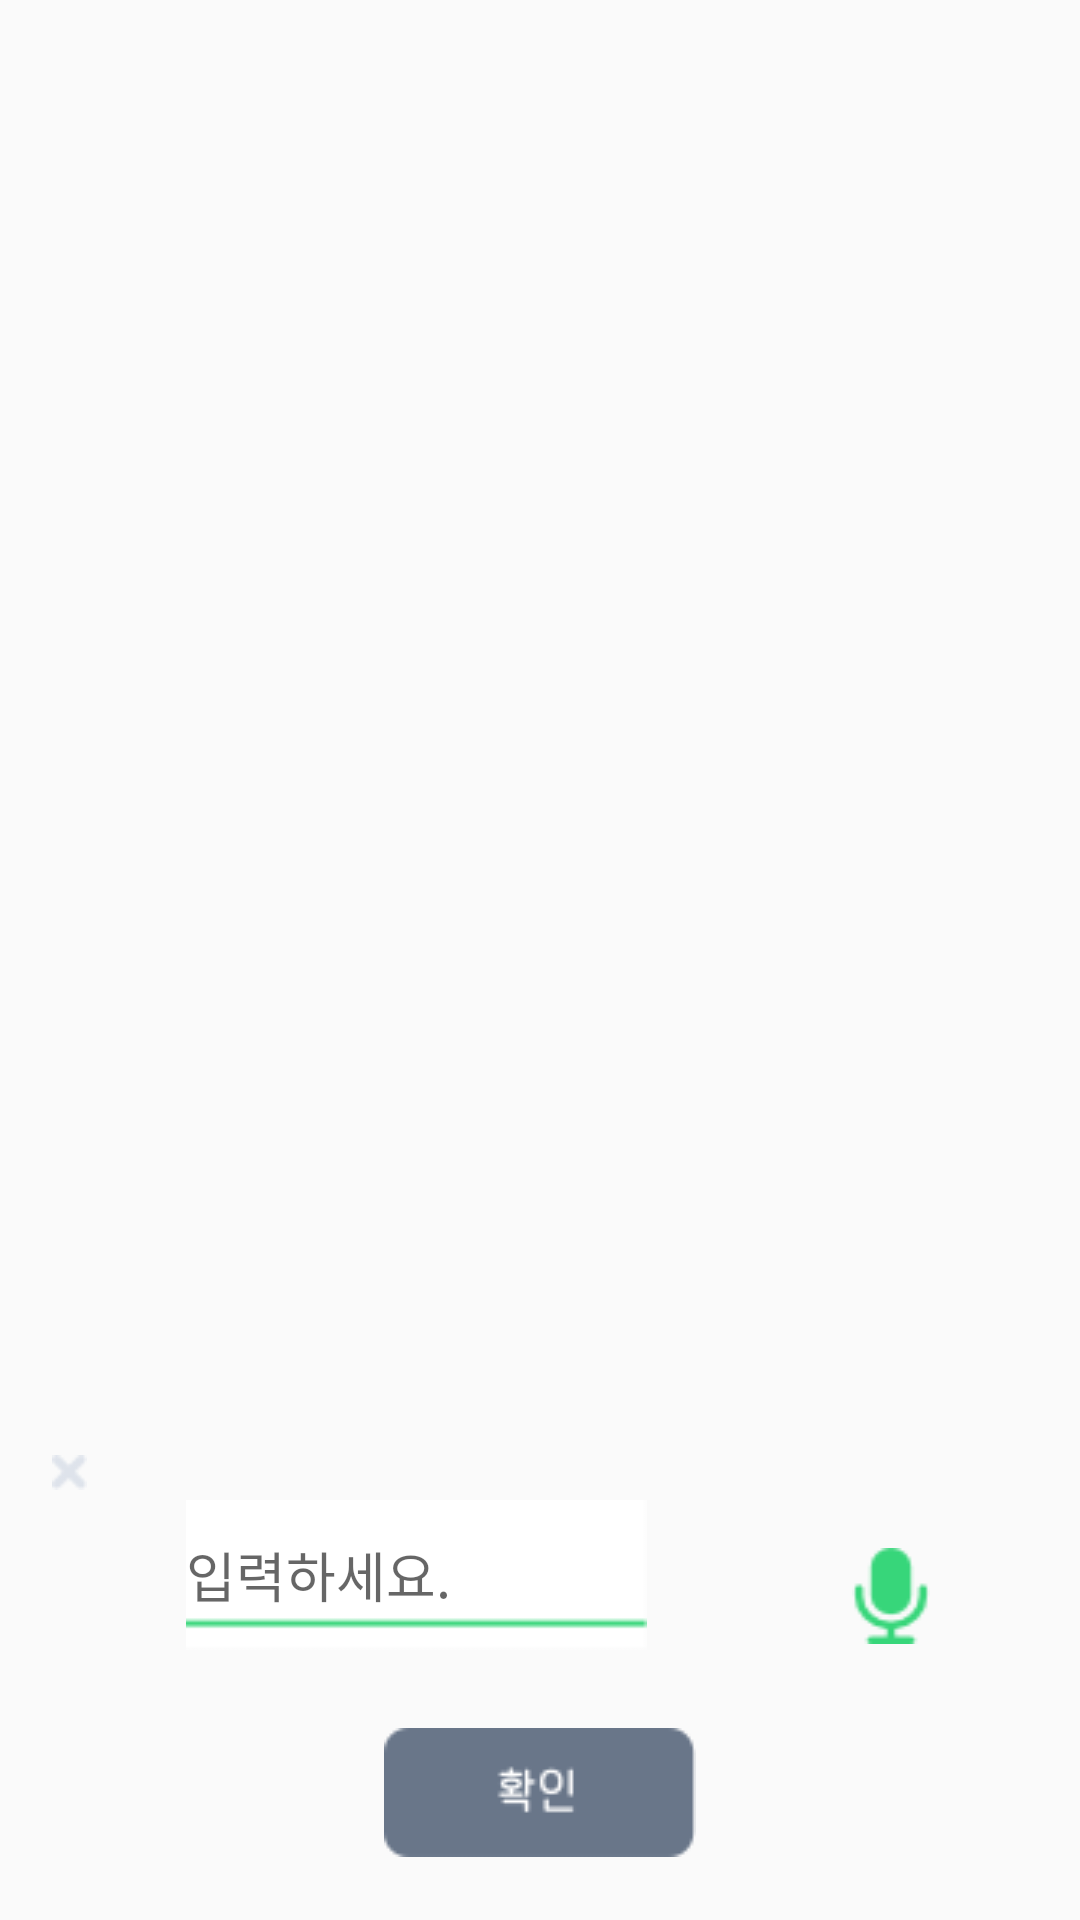

Where to tap for icons on this 1080 × 1920 app screen, as point (x, y):
closeicon: point (68, 1471)
micbtn: point (891, 1596)
